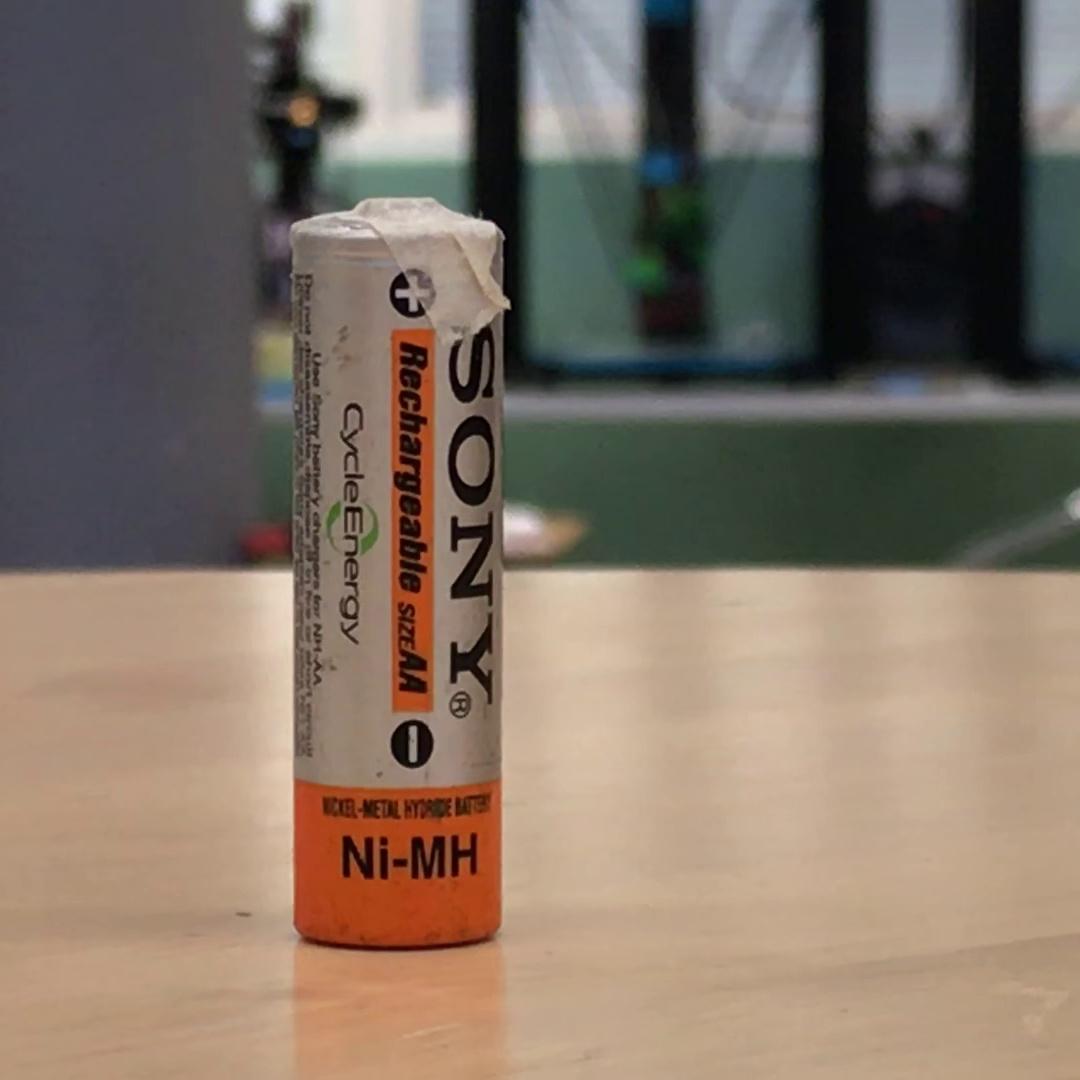keyword: (332, 823, 487, 890)
